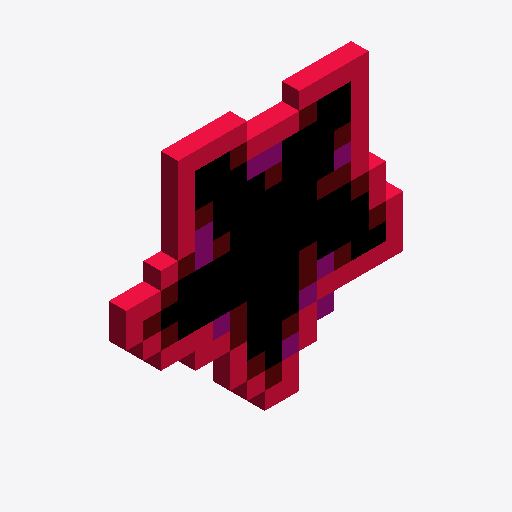
Isometric view (azimuth 45°, elevation 35.3°) of a Minecraft model made of 13 cuboids, textured from the same repository.
Parts seen in each view (by area): dark_candy_0, dark_candy_1, dark_candy_2, dark_candy_5, dark_candy_3, dark_candy_4, dark_candy_8, dark_candy_10, dark_candy_6, dark_candy_12, dark_candy_9.
Part boxes in pixels (left/top/right/bottom): dark_candy_0: left=282, top=41, right=368, bottom=310; dark_candy_1: left=161, top=111, right=246, bottom=360; dark_candy_2: left=231, top=101, right=298, bottom=400; dark_candy_5: left=109, top=281, right=160, bottom=350; dark_candy_3: left=143, top=251, right=177, bottom=370; dark_candy_4: left=369, top=152, right=385, bottom=269; dark_candy_8: left=179, top=321, right=246, bottom=370; dark_candy_10: left=213, top=341, right=246, bottom=390; dark_candy_6: left=386, top=181, right=402, bottom=260; dark_candy_12: left=248, top=371, right=298, bottom=410; dark_candy_9: left=299, top=291, right=333, bottom=330.
Bounding box in the file's own units: 16 × 15 × 1.